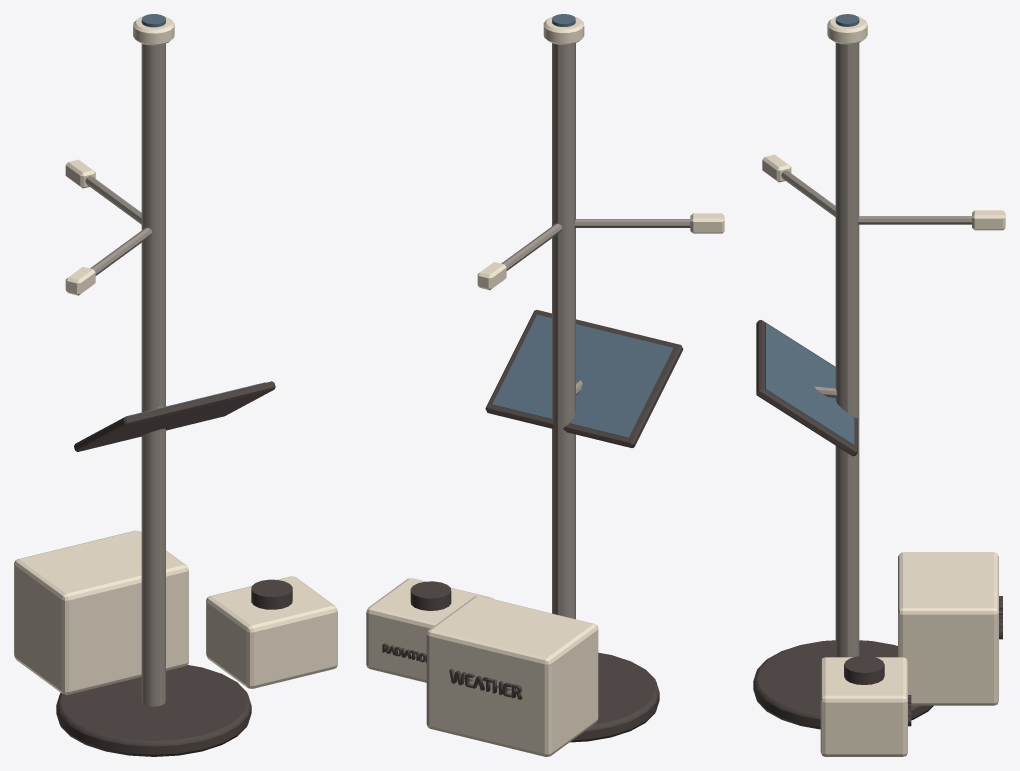
File: prop_weather_mast.glb
The picture shows the model from 3 angles, left to right: view 1: azimuth 30°, elevation 25°; view 2: azimuth 150°, elevation 25°; view 3: azimuth 270°, elevation 25°; orthographic projection. The views are drawn at different scales.
Parts seen in each view (by area): view 1: detail-col, mast-convcol; view 2: detail-col, mast-convcol; view 3: detail-col, mast-convcol.
Boxes of the visible parts, x1=… form: detail-col: x1=14, y1=14, x2=337, y2=756; mast-convcol: x1=141, y1=43, x2=165, y2=706; detail-col: x1=366, y1=14, x2=724, y2=756; mast-convcol: x1=552, y1=43, x2=575, y2=619; detail-col: x1=753, y1=14, x2=1005, y2=756; mast-convcol: x1=835, y1=43, x2=859, y2=657.
Bounding box in the file's own units: 0.9855 × 2.21 × 0.75.
